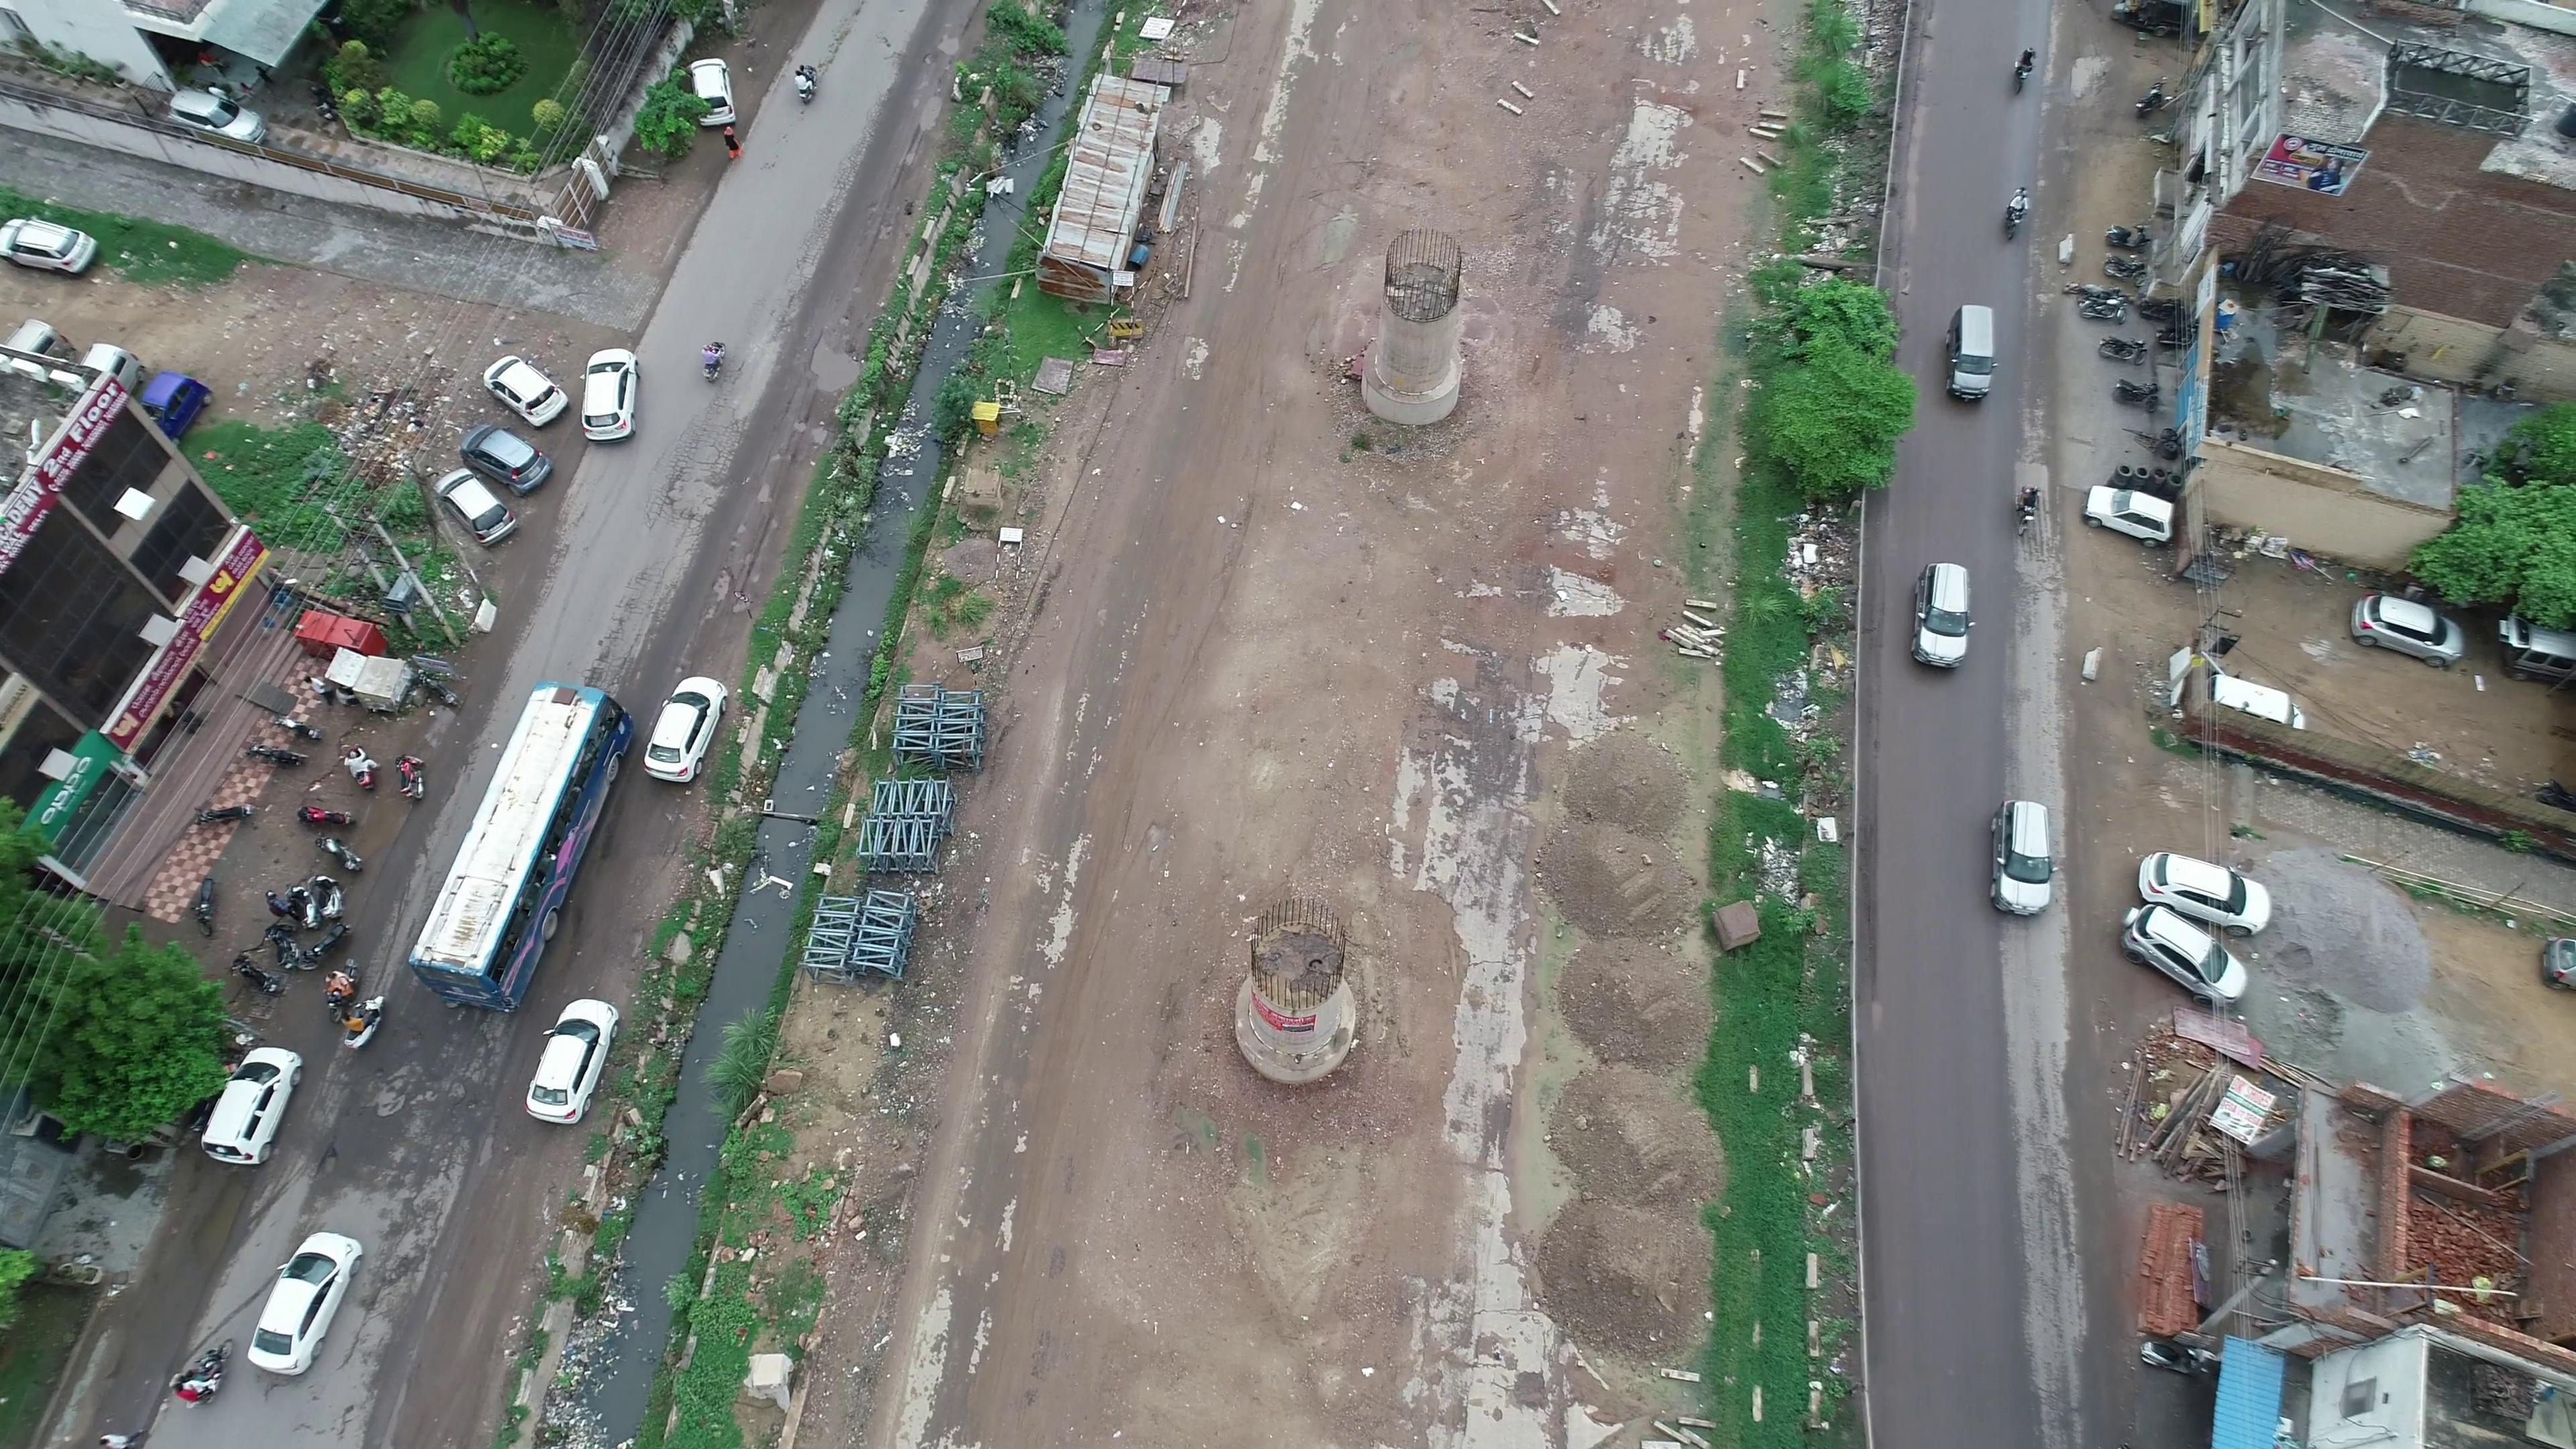Potholes: (271, 1123, 396, 1196)
